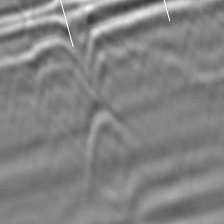Utility: (83, 99, 131, 179)
